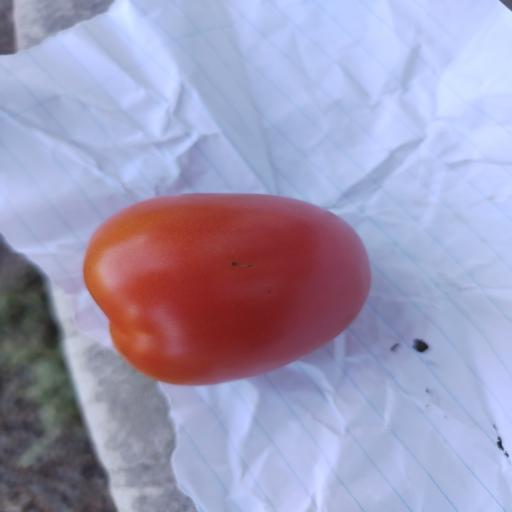ripe: (84, 194, 370, 385)
